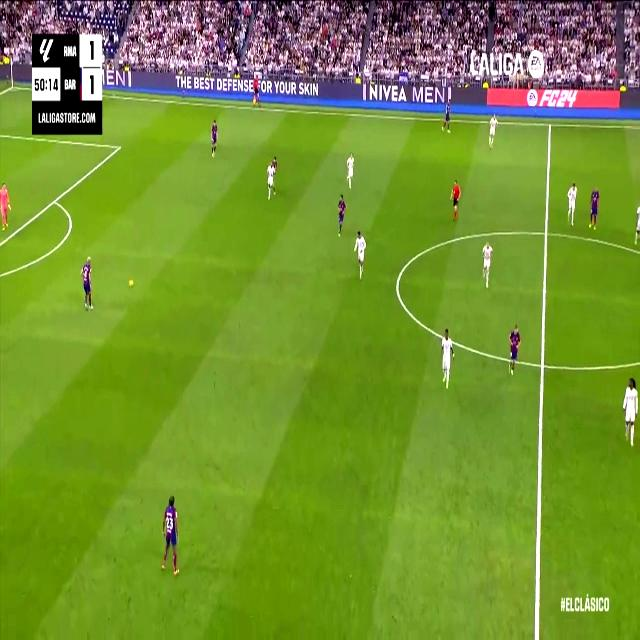bigarea_top_inner: (116, 141, 121, 153)
corner: (10, 82, 16, 90)
halfcircle_bottom: (536, 351, 548, 378)
halfcircle_top: (540, 220, 553, 246)
midline_top_intersection: (546, 118, 554, 132)
top_arc_area_intersection: (51, 192, 59, 208)
